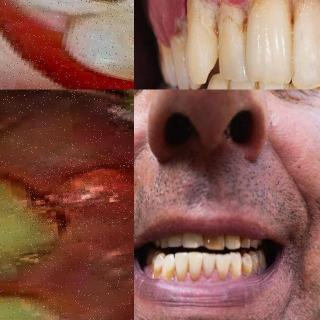Gum Swelling: (0, 94, 112, 192)
calculus: (247, 0, 289, 34), (216, 0, 244, 33), (295, 0, 320, 33), (186, 0, 214, 28), (257, 256, 267, 272)
cavities: (29, 0, 129, 15)
maligned: (183, 0, 220, 82)
plaque: (172, 27, 188, 62)
stains: (202, 258, 216, 281), (150, 261, 164, 283), (190, 260, 202, 284), (227, 261, 241, 281), (176, 261, 188, 283), (219, 260, 232, 280), (241, 261, 252, 279), (166, 263, 177, 279)
